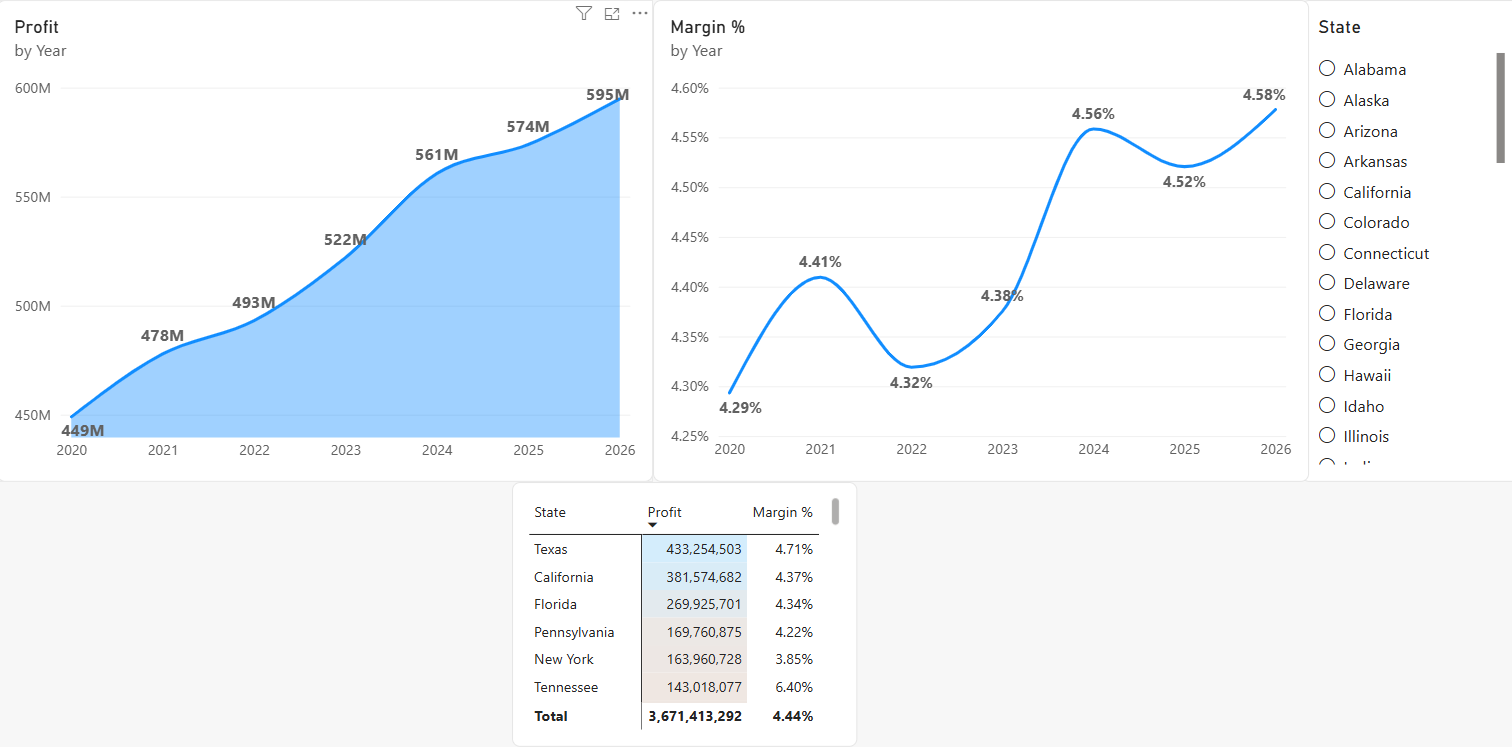

This screenshot's page, from the dashboard's own definition file:
{"tool":"powerbi","page":{"name":"Page 1","canvas":[1920,1080],"ordinal":0},"visuals":[{"type":"areaChart","fields":{"Category":["supermarket_flat.Year"],"Y":["supermarket_flat.Profit"]},"box":[0,0,644.2,473.5],"z":0},{"type":"listSlicer","fields":{"Values":["supermarket_flat.State"]},"box":[1280,0,217.9,473.1],"z":2000},{"type":"lineChart","fields":{"Category":["supermarket_flat.Year"],"Y":["supermarket_flat.Margin %"]},"box":[643.9,0,644,473],"z":3000},{"type":"pivotTable","fields":{"Rows":["supermarket_flat.State"],"Values":["supermarket_flat.Profit","supermarket_flat.Margin %"]},"box":[505.5,473.1,338.7,260.1],"z":3001}]}

Visuals, with their boxes on the page's 1920x1080 design canvas (x1, y1, x2, y2). These are canvas units, not pixel positions in the 1512x747 screenshot, which may show the page scaled, cropped or inside an application window:
areaChart - supermarket_flat.Year x supermarket_flat.Profit: x1=0, y1=0, x2=644, y2=474
listSlicer - supermarket_flat.State: x1=1280, y1=0, x2=1498, y2=473
lineChart - supermarket_flat.Year x supermarket_flat.Margin %: x1=644, y1=0, x2=1288, y2=473
pivotTable - supermarket_flat.State x supermarket_flat.Profit: x1=506, y1=473, x2=844, y2=733
